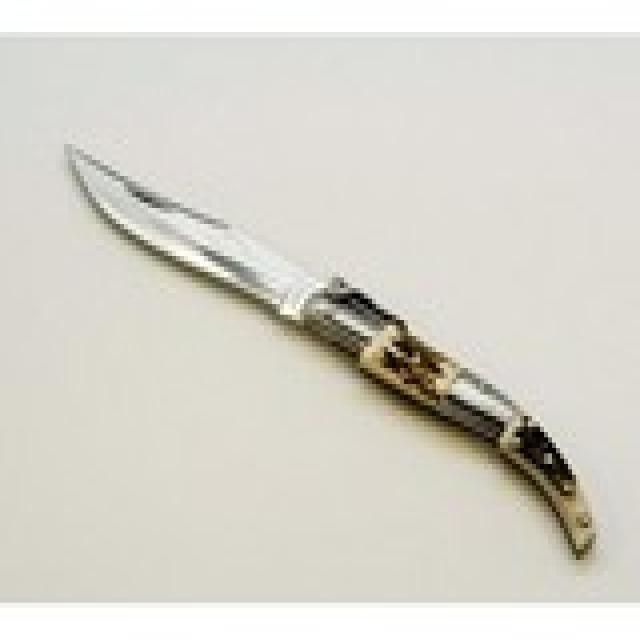Knife: (62, 126, 603, 563)
